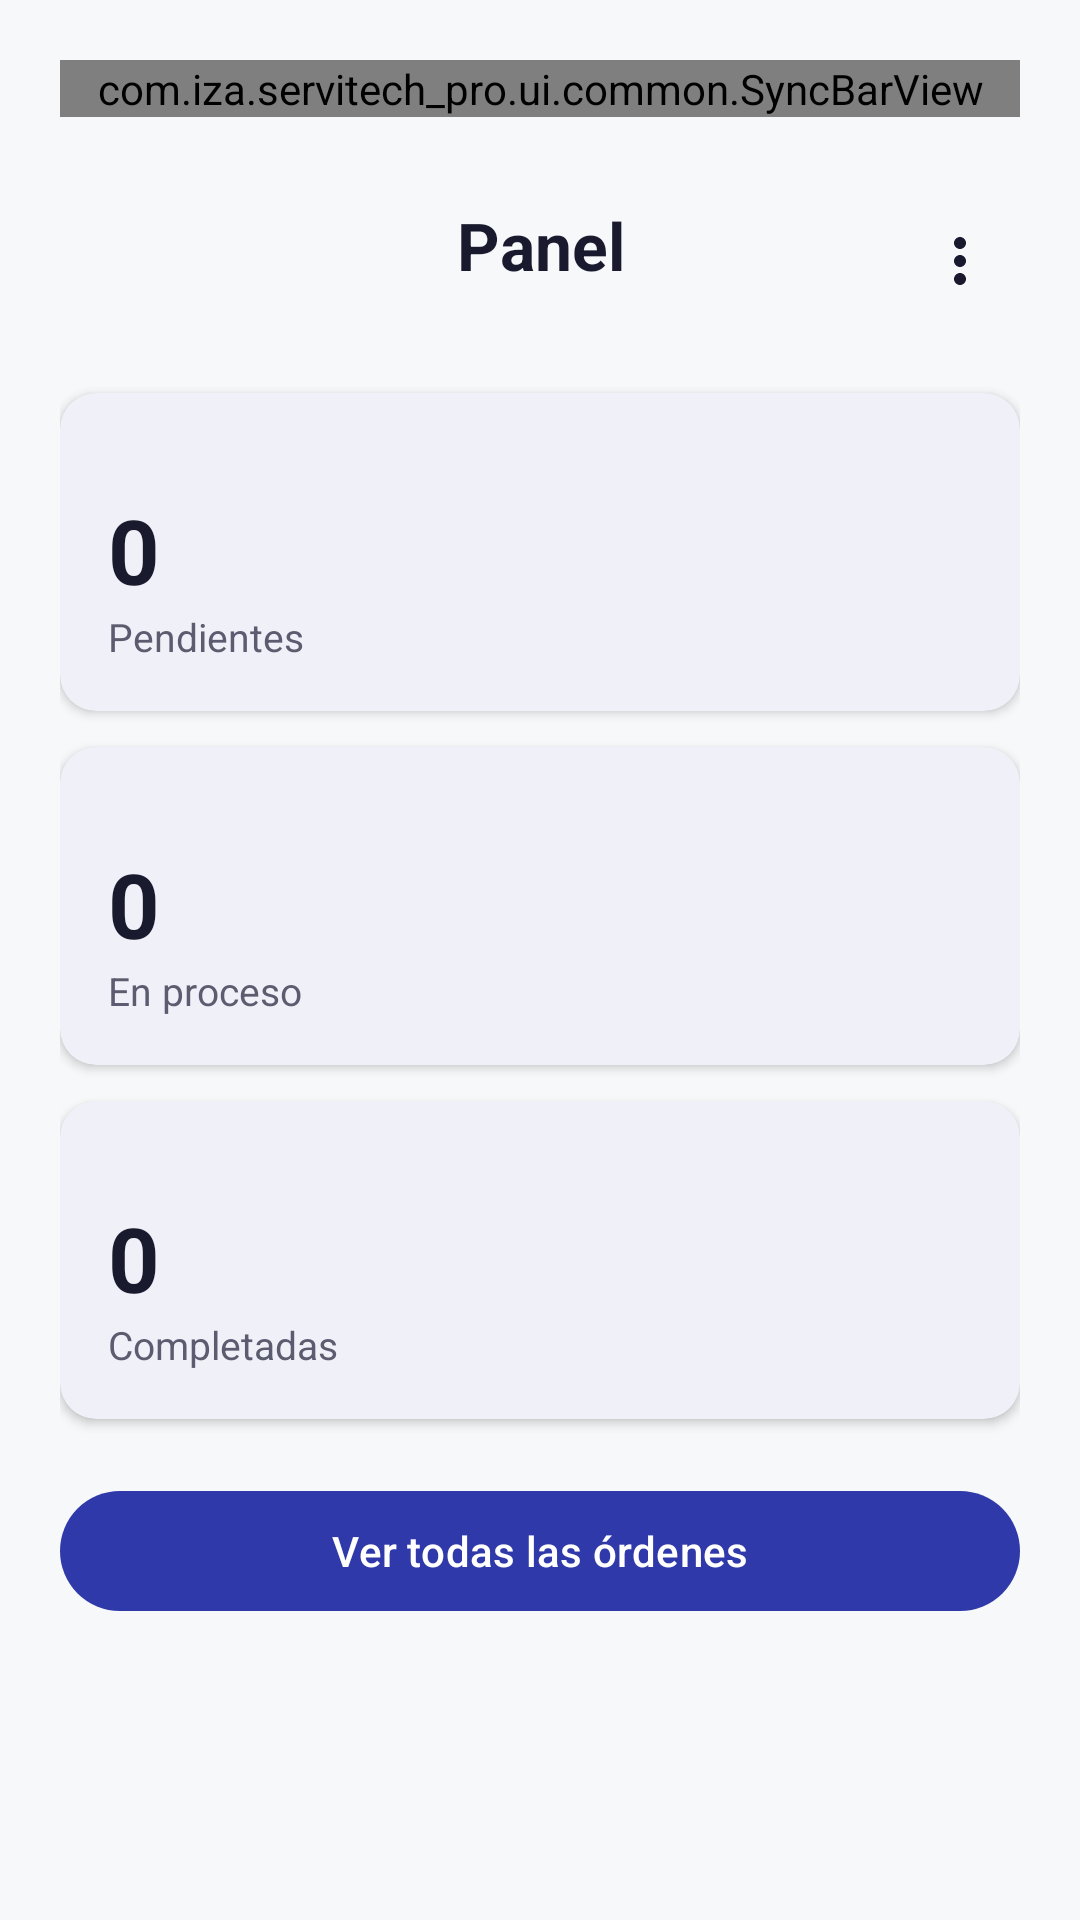

Where icons sit on this 1080 × 1920 app screen, as (x1, y1, x2, y2):
Más opciones: (954, 237, 966, 285)
